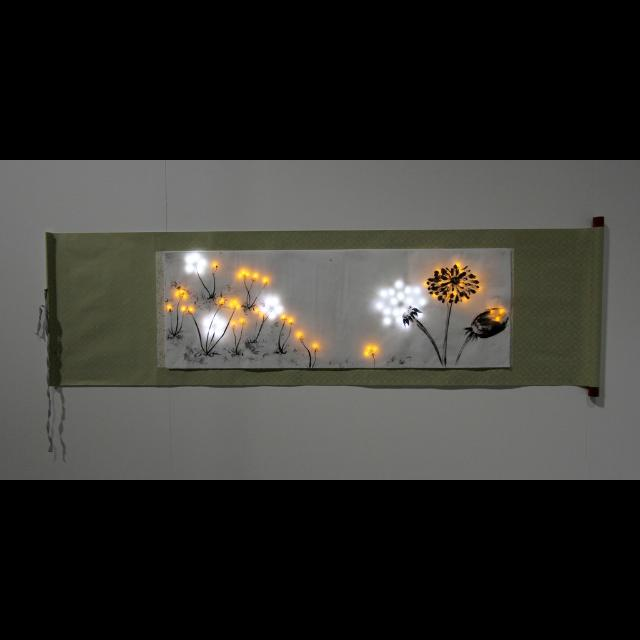Flower: (164, 259, 378, 359), (426, 258, 479, 308), (461, 308, 512, 344), (401, 304, 424, 326)
